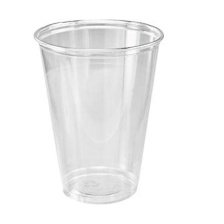glass: (24, 11, 174, 207)
